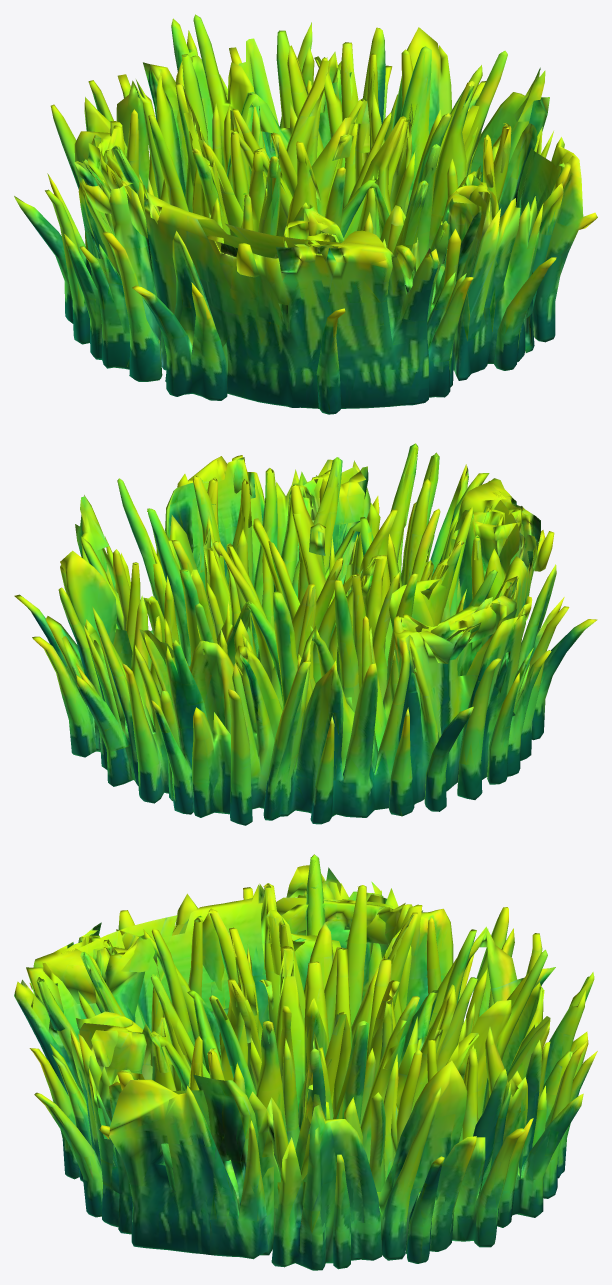
The model's file is tall_grass.glb.
The picture shows the model from 3 angles, top to bottom: view 1: azimuth 30°, elevation 25°; view 2: azimuth 150°, elevation 25°; view 3: azimuth 270°, elevation 25°; orthographic projection. The views are drawn at different scales.
Size of the model in its own units: 1.87 by 0.8063 by 1.93.
1 material, 1 textured.
